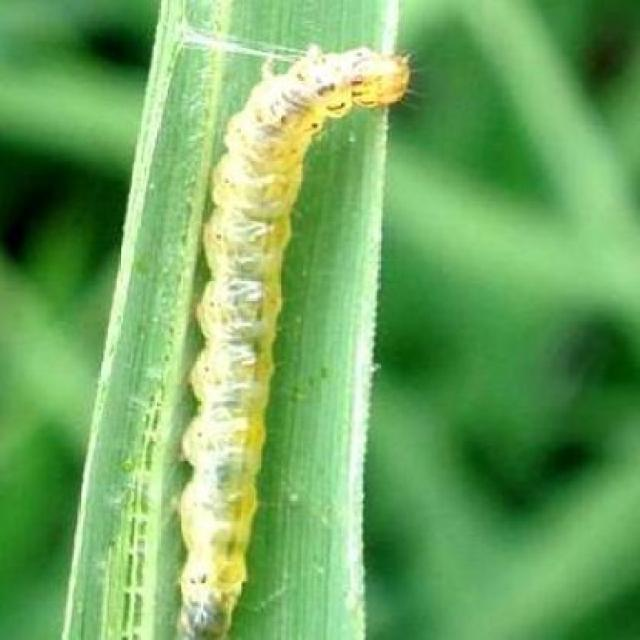leaf-folder: (132, 7, 426, 640)
